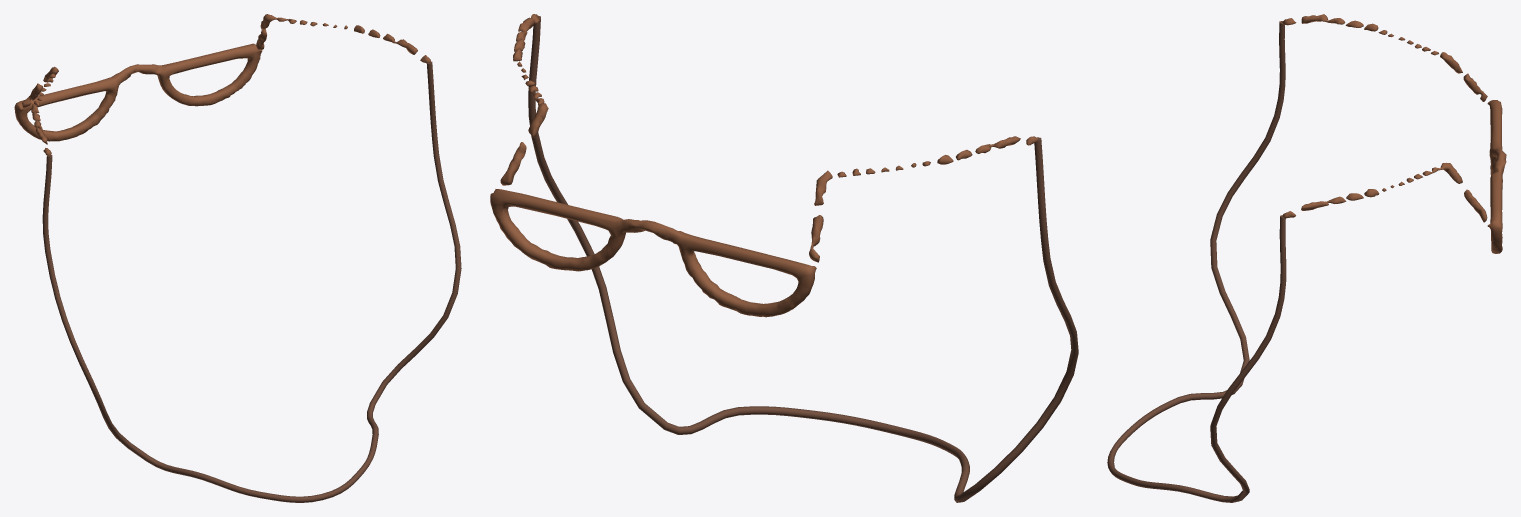
File: glasses_halfmoon_m.glb
3 views of the same model, side by side, from view 1: azimuth 30°, elevation 25°; view 2: azimuth 150°, elevation 25°; view 3: azimuth 270°, elevation 25° (orthographic). The views are drawn at different scales.
Parts seen in each view (by area): view 1: Acc_glasses_halfmoon_GlassesMoon, Acc_glasses_halfmoon_GlassesCord; view 2: Acc_glasses_halfmoon_GlassesMoon, Acc_glasses_halfmoon_GlassesCord; view 3: Acc_glasses_halfmoon_GlassesCord, Acc_glasses_halfmoon_GlassesMoon.
Boxes of the visible parts, x1,y1,x2,y2 form: Acc_glasses_halfmoon_GlassesMoon: [14, 14, 430, 155]; Acc_glasses_halfmoon_GlassesCord: [42, 61, 461, 502]; Acc_glasses_halfmoon_GlassesMoon: [490, 14, 1038, 317]; Acc_glasses_halfmoon_GlassesCord: [528, 15, 1078, 502]; Acc_glasses_halfmoon_GlassesCord: [1107, 21, 1286, 502]; Acc_glasses_halfmoon_GlassesMoon: [1282, 14, 1506, 253].
Size of the model in its own units: 0.3578 by 0.2972 by 0.2996.
